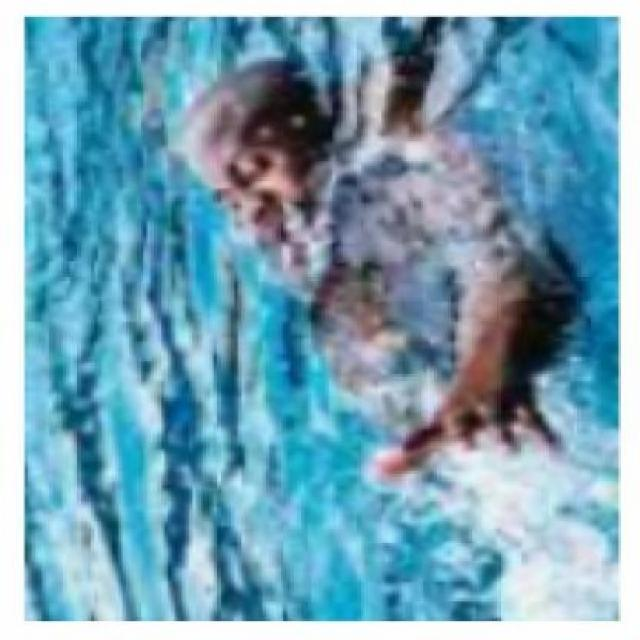drowning: (179, 60, 559, 480)
